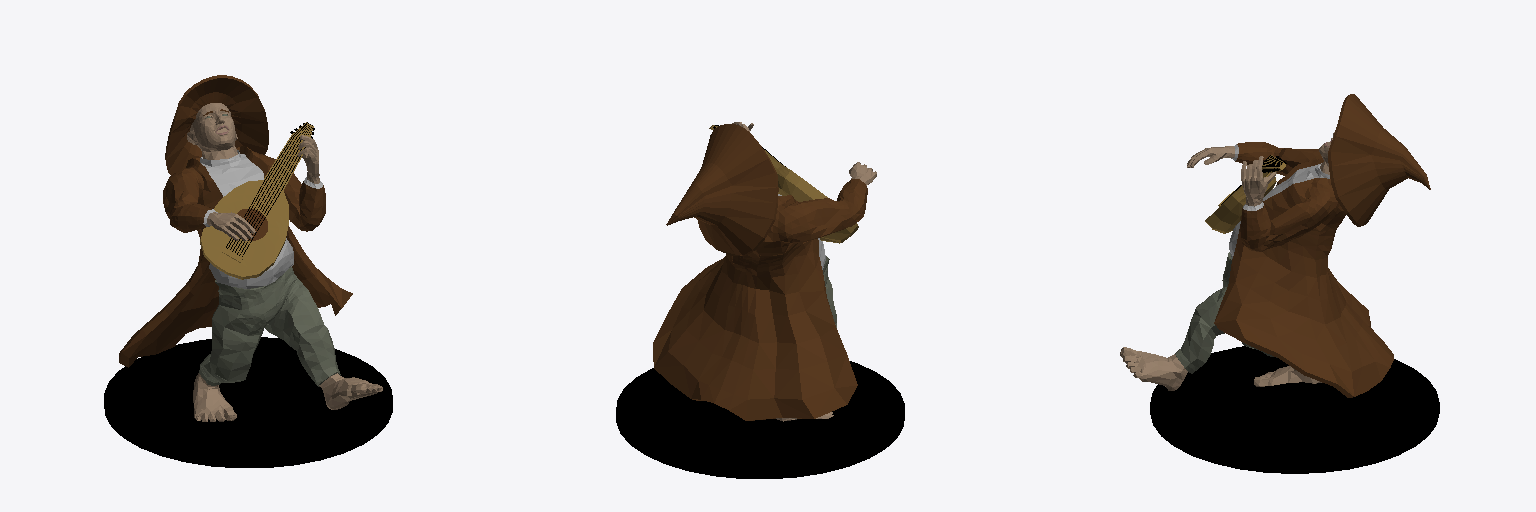
3 views of the same model, side by side, from view 1: azimuth 30°, elevation 25°; view 2: azimuth 150°, elevation 25°; view 3: azimuth 270°, elevation 25° (orthographic).
Parts seen in each view (by area): view 1: PosedMini; view 2: PosedMini; view 3: PosedMini.
Boxes of the visible parts, box(x1,y1,x2,y2) form: PosedMini: box(104, 75, 392, 467); PosedMini: box(616, 122, 904, 478); PosedMini: box(1120, 94, 1439, 473).
Bounding box in the file's own units: 1.18 × 1.41 × 1.3.
Materials: 1 (1 with a texture image).